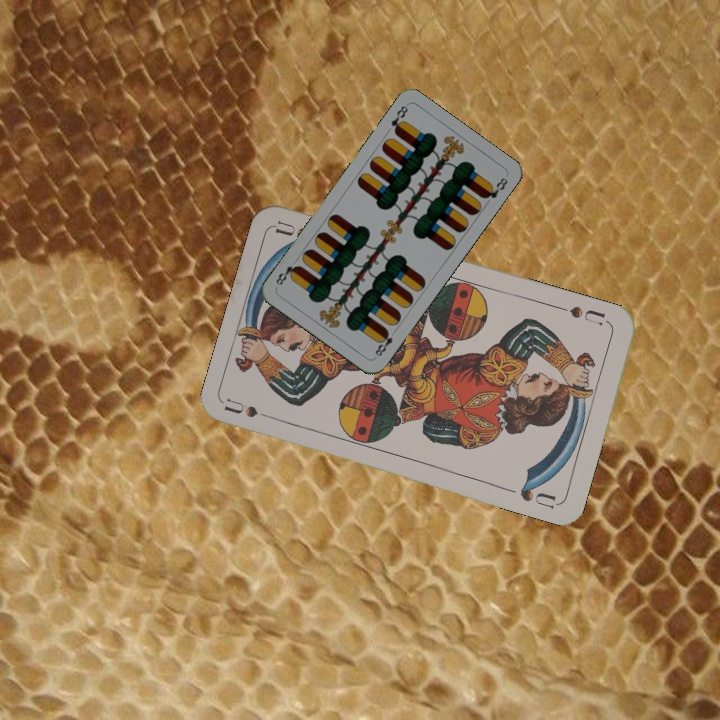E8: (371, 325, 399, 360), (387, 101, 411, 137)
SU: (222, 395, 281, 423), (554, 302, 608, 328)
